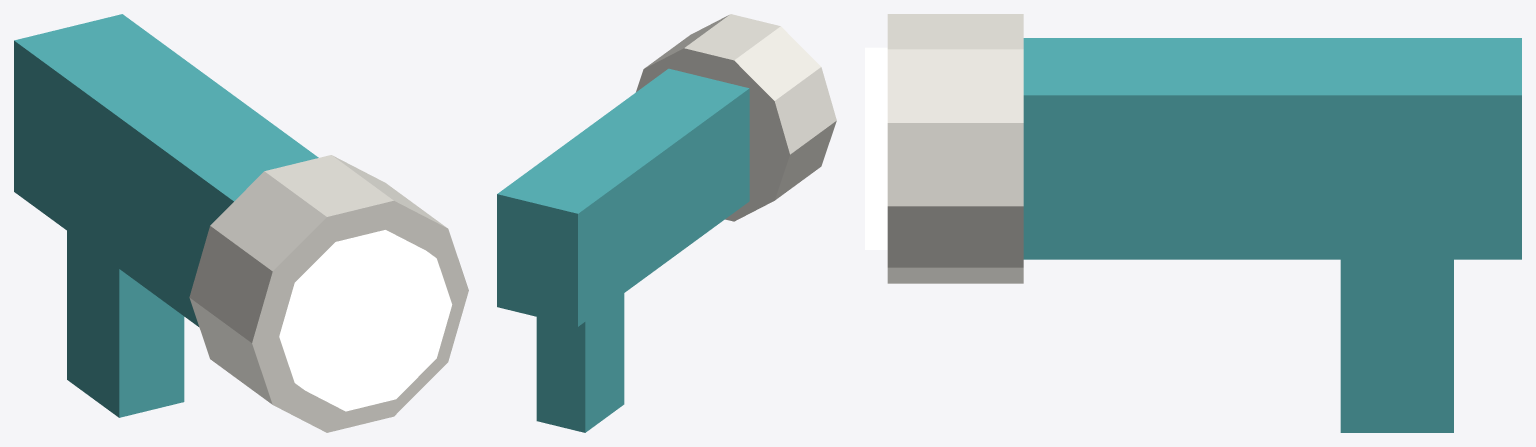
File: item_F1_PurgeEmitter.glb
The picture shows the model from 3 angles, left to right: view 1: azimuth 30°, elevation 25°; view 2: azimuth 150°, elevation 25°; view 3: azimuth 270°, elevation 25°; orthographic projection. The views are drawn at different scales.
Visible parts, largest first — view 1: Item_F1_PurgeEmitter; view 2: Item_F1_PurgeEmitter; view 3: Item_F1_PurgeEmitter.
Part boxes in pixels (x1,y1,x2,y2): Item_F1_PurgeEmitter: (14,14,468,432); Item_F1_PurgeEmitter: (497,14,836,432); Item_F1_PurgeEmitter: (865,14,1521,432).
Size of the model in its own units: 0.12 by 0.1871 by 0.29.
